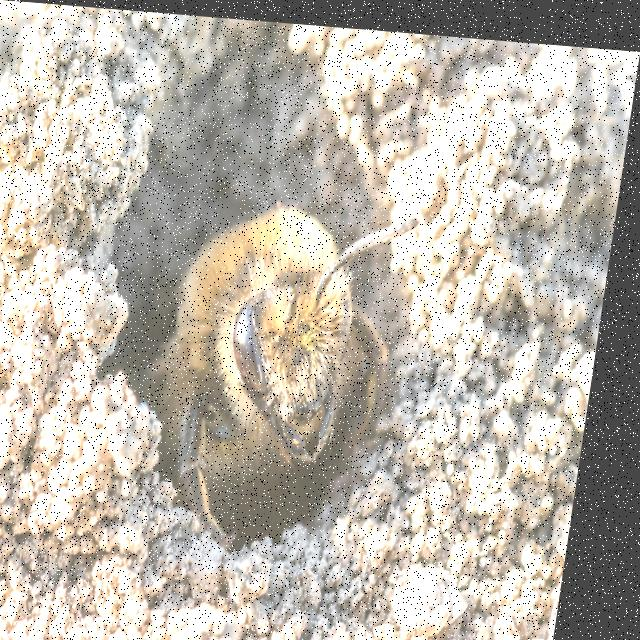Allodapula: (105, 128, 457, 589)
